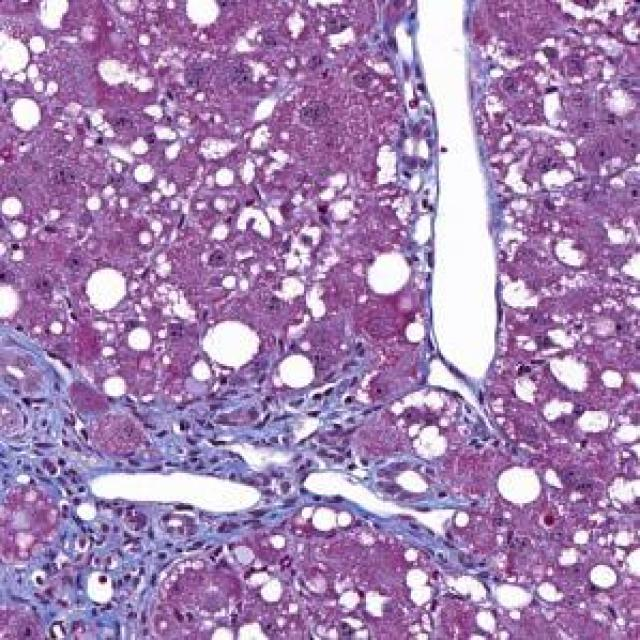fibrosis: (8, 498, 259, 640), (9, 379, 248, 481)
